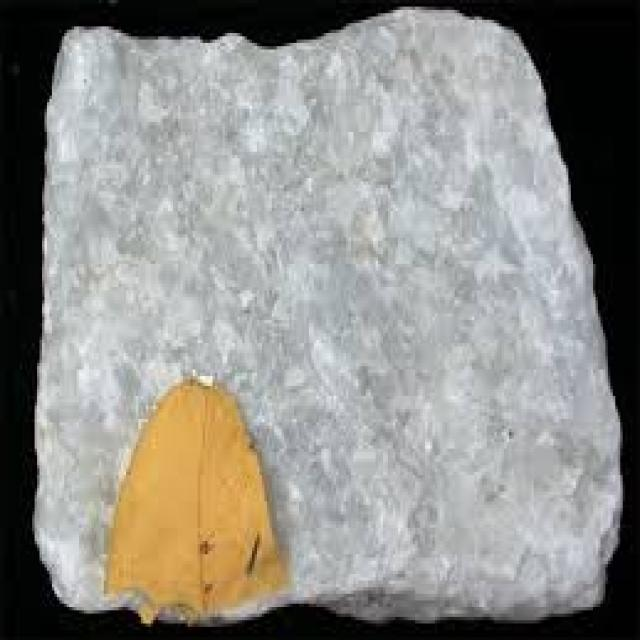Metamorphic: (42, 132, 610, 620)
